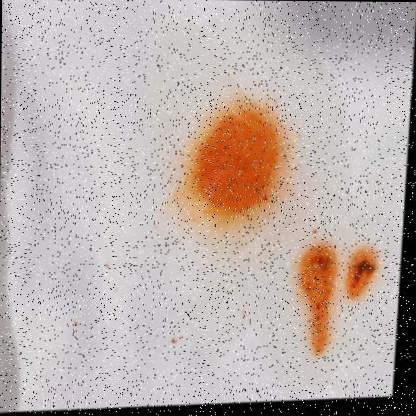kimchi: (178, 100, 288, 220), (295, 239, 342, 358), (350, 243, 380, 293), (170, 334, 185, 351), (310, 221, 321, 236)
